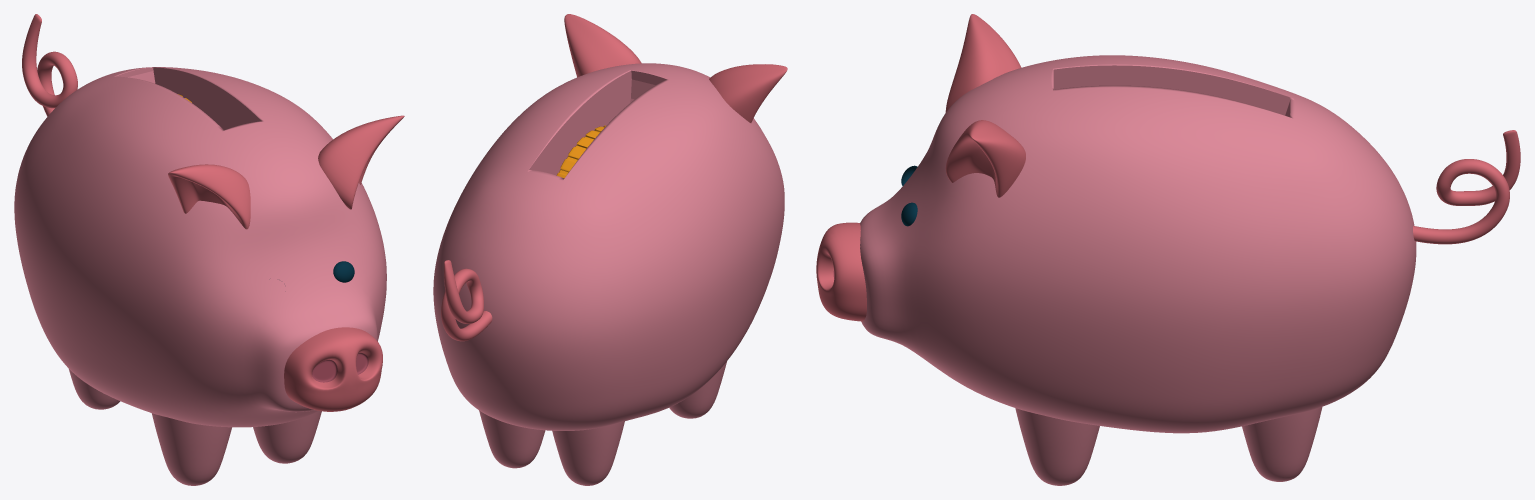
File: piggy-bank-3d-animated-icon-1067956781528.glb
3 renders of one model, left to right at view 1: azimuth 30°, elevation 25°; view 2: azimuth 150°, elevation 25°; view 3: azimuth 270°, elevation 25°, orthographic. The views are drawn at different scales.
Visible parts, largest first — view 1: Cube; view 2: Cube, Coin 2; view 3: Cube.
Boxes of the visible parts, x1,y1,x2,y2 form: Cube: (14, 14, 404, 485); Cube: (433, 14, 787, 485); Coin 2: (556, 125, 605, 178); Cube: (816, 14, 1520, 485).
Size of the model in its own units: 1.43 by 1.82 by 3.
